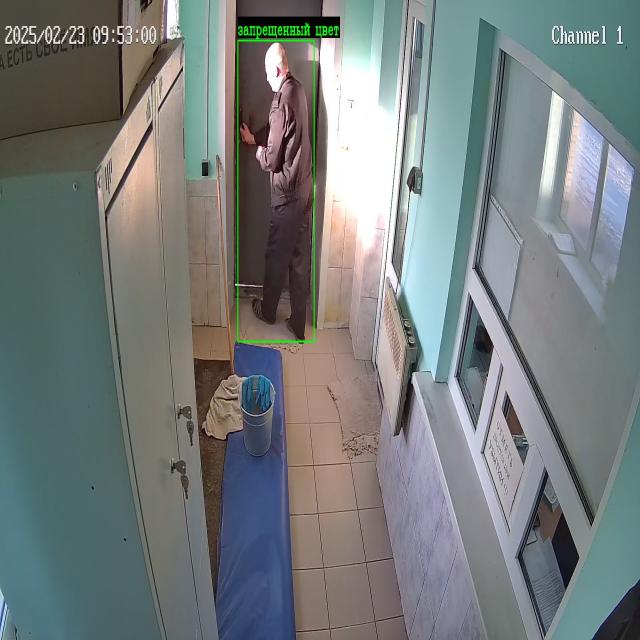Person: (240, 43, 312, 340)
